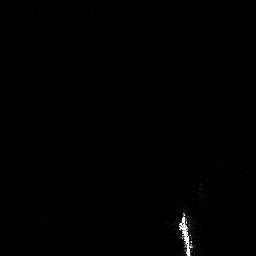ship: (173, 208, 197, 256)
